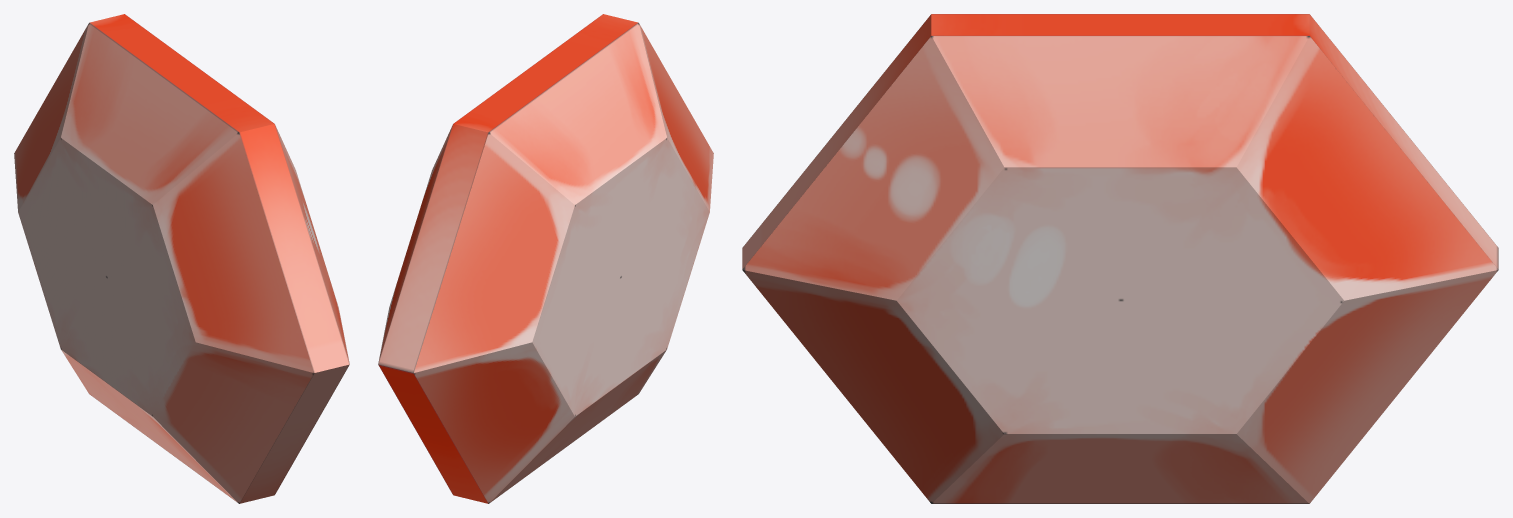
File: redKEY.fbx
The picture shows the model from 3 angles, left to right: view 1: azimuth 30°, elevation 25°; view 2: azimuth 150°, elevation 25°; view 3: azimuth 270°, elevation 25°; orthographic projection. The views are drawn at different scales.
Parts seen in each view (by area): view 1: polySurface6; view 2: polySurface6; view 3: polySurface6.
Part boxes in pixels (x1,y1,x2,y2): polySurface6: (14,14,349,503); polySurface6: (378,14,713,503); polySurface6: (742,14,1498,503).
Bounding box in the file's own units: 0.336 × 0.8338 × 1.22.
Materials: 1 (1 with a texture image).
